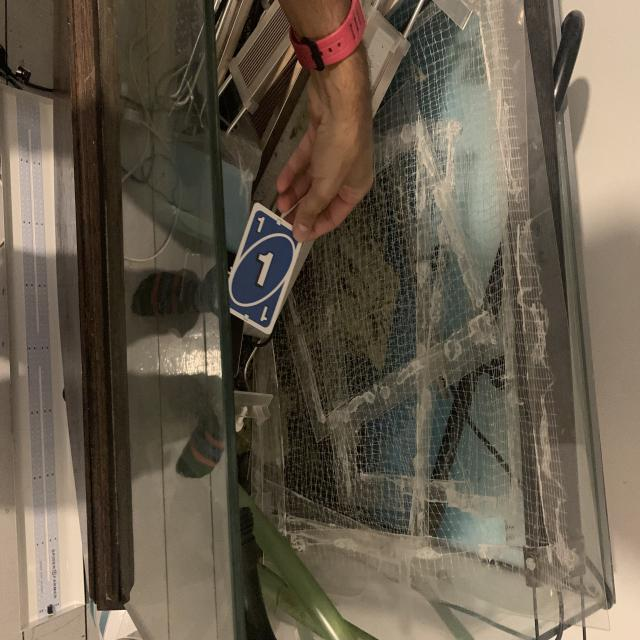lblue-1: (250, 212, 271, 239)
